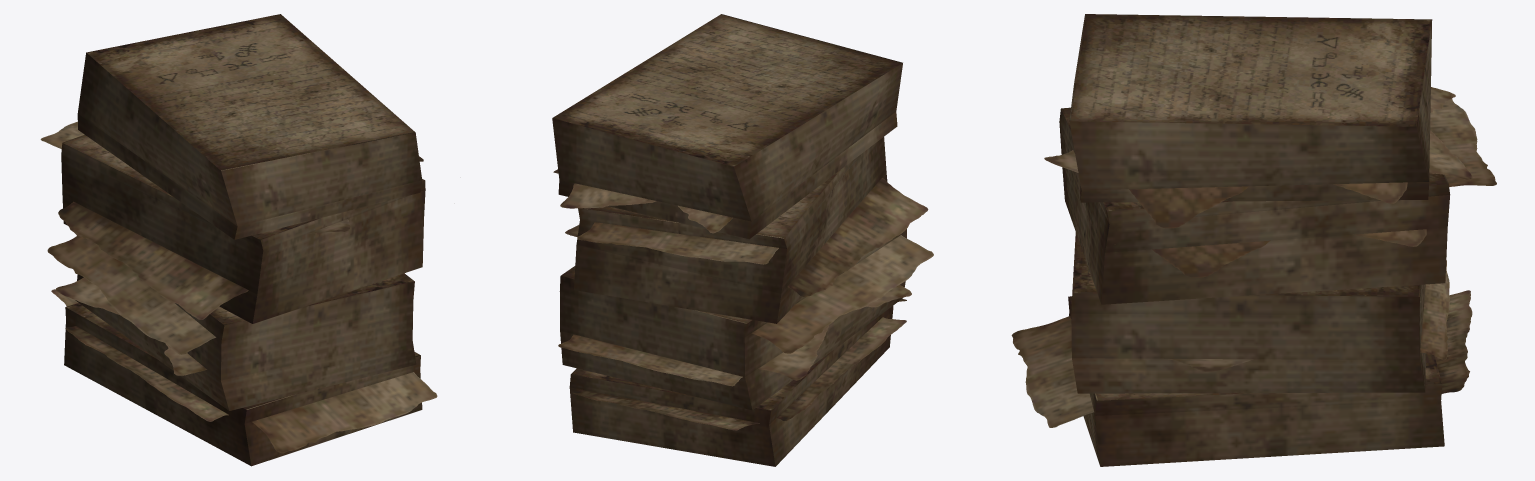
Rendered from paperpile02.dae.
3 renders of one model, left to right at view 1: azimuth 30°, elevation 25°; view 2: azimuth 150°, elevation 25°; view 3: azimuth 270°, elevation 25°, orthographic. The views are drawn at different scales.
Parts seen in each view (by area): view 1: polySurface43, polySurface44; view 2: polySurface43, polySurface44; view 3: polySurface43, polySurface44.
Boxes of the visible parts, left/top/right/bottom form: polySurface43: left=40, top=14, right=437, bottom=466; polySurface44: left=41, top=122, right=434, bottom=452; polySurface43: left=552, top=14, right=933, bottom=466; polySurface44: left=560, top=178, right=933, bottom=429; polySurface43: left=1011, top=14, right=1496, bottom=466; polySurface44: left=1012, top=88, right=1494, bottom=427.
Bounding box in the file's own units: 0.3593 × 0.3027 × 0.4279.
